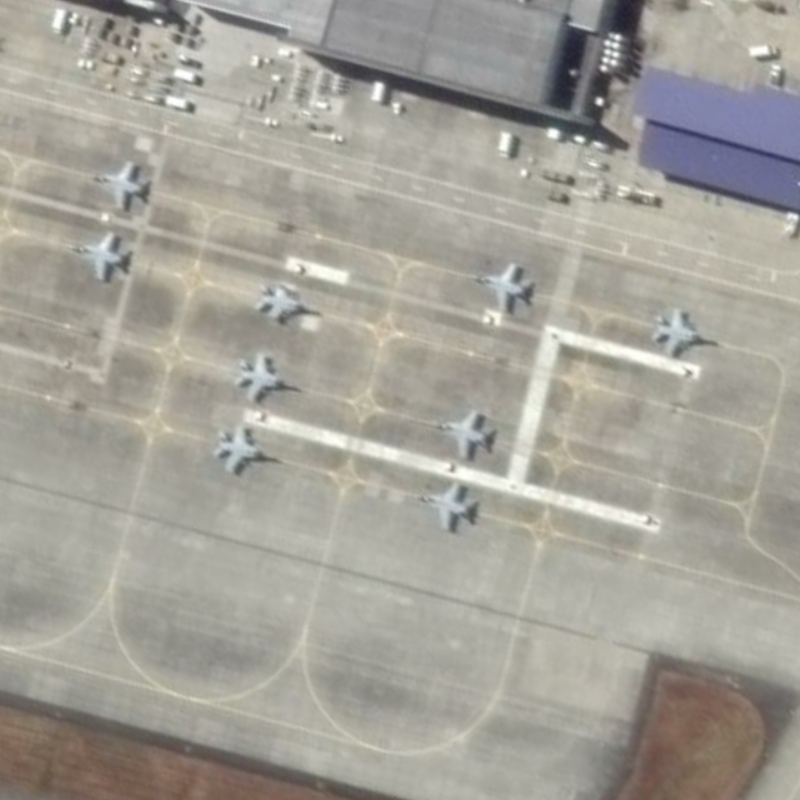A16: (459, 255, 540, 322), (52, 226, 137, 289), (399, 474, 480, 539), (416, 401, 498, 465), (249, 273, 328, 334), (77, 155, 156, 216), (232, 345, 305, 411), (643, 302, 721, 363), (207, 419, 285, 478)
